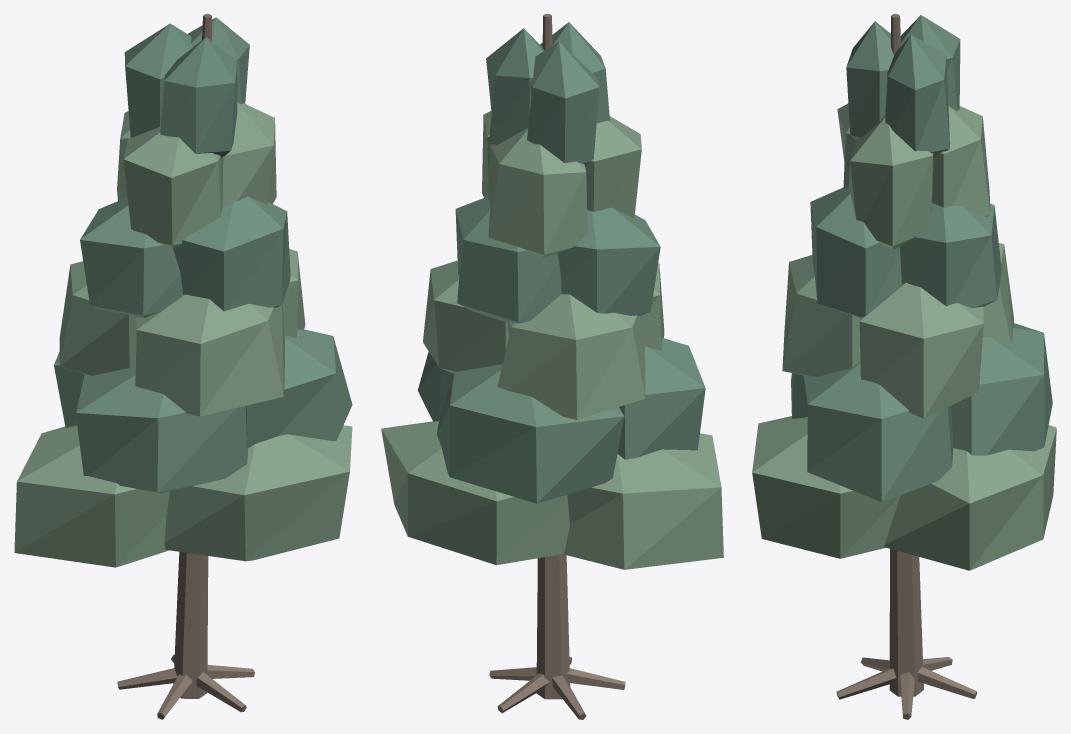
The picture shows the model from 3 angles, left to right: view 1: azimuth 30°, elevation 25°; view 2: azimuth 150°, elevation 25°; view 3: azimuth 270°, elevation 25°; orthographic projection.
Bounding box in the file's own units: 8.29 × 16.61 × 6.74.
